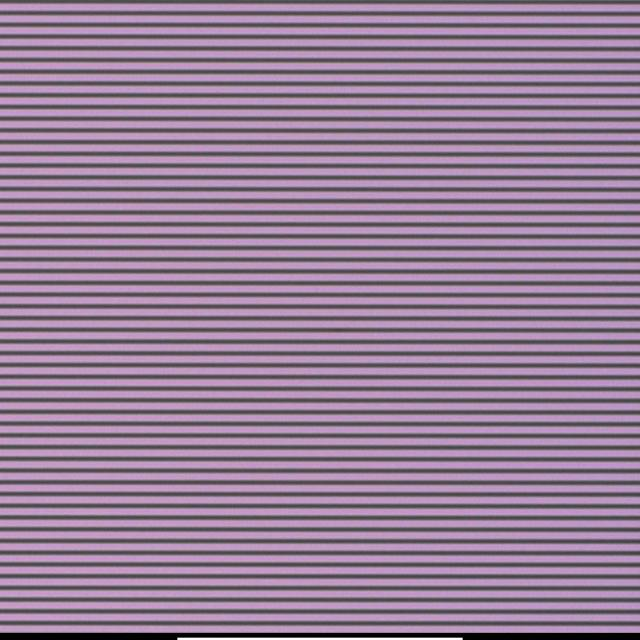03_intrusion: (312, 288, 324, 302)
